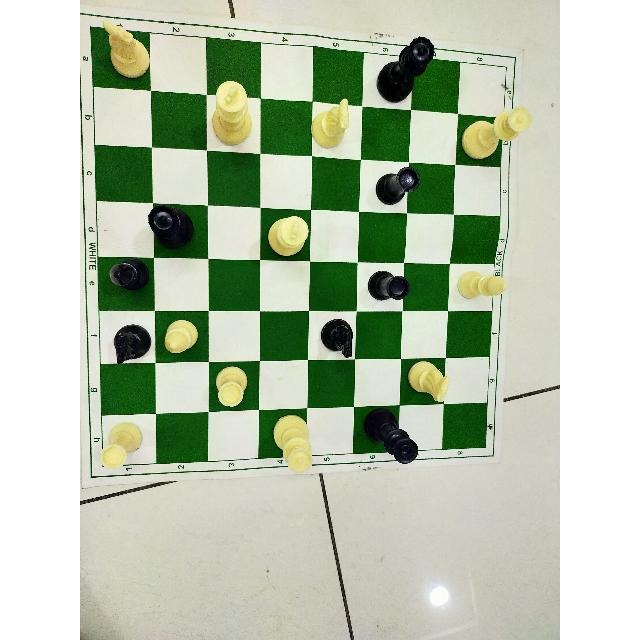black-bishop: (107, 256, 153, 293)
black-king: (359, 403, 423, 468)
black-knight: (109, 321, 153, 367), (316, 316, 360, 360)
black-queen: (372, 31, 437, 105), (142, 200, 200, 252)
black-rook: (371, 163, 423, 206), (366, 265, 409, 303)
white-bishop: (453, 265, 511, 312), (160, 318, 199, 356)
white-king: (211, 77, 255, 147), (265, 211, 311, 259)
white-knight: (99, 17, 155, 84), (307, 96, 352, 150), (406, 358, 452, 405)
white-queen: (457, 101, 535, 162), (269, 410, 316, 475)
white-rook: (93, 418, 146, 470), (213, 363, 247, 410)
